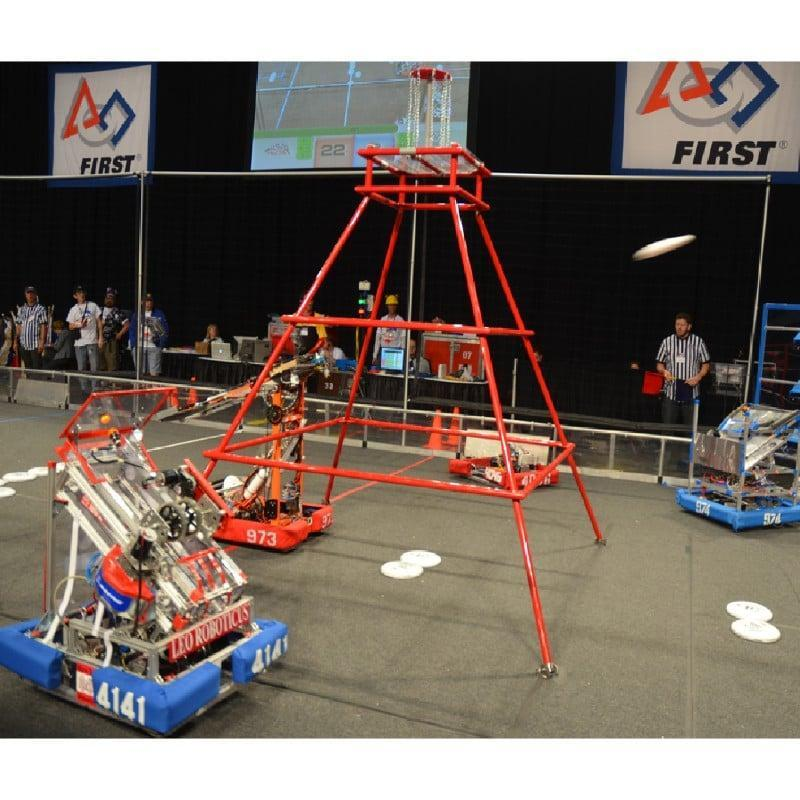robot: (0, 383, 294, 737), (180, 369, 340, 563), (670, 407, 800, 537), (446, 429, 564, 501)
